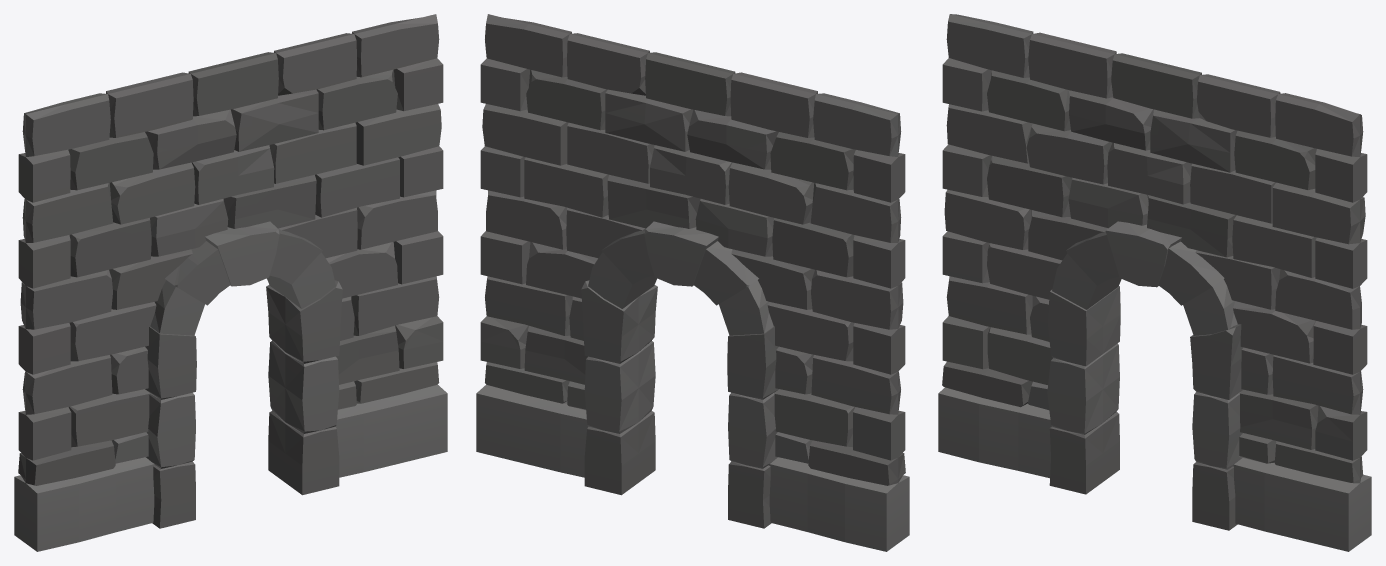
The model's file is Wall_10_dra.glb.
3 views of the same model, side by side, from view 1: azimuth 30°, elevation 25°; view 2: azimuth 150°, elevation 25°; view 3: azimuth 330°, elevation 25° (orthographic).
Parts seen in each view (by area): view 1: Wall_10; view 2: Wall_10; view 3: Wall_10.
Boxes of the visible parts, x1,y1,x2,y2 form: Wall_10: (14, 14, 447, 551); Wall_10: (476, 14, 909, 551); Wall_10: (938, 14, 1371, 551).
Bounding box in the file's own units: 4 × 4.02 × 0.6072.
1 material, 1 textured.
